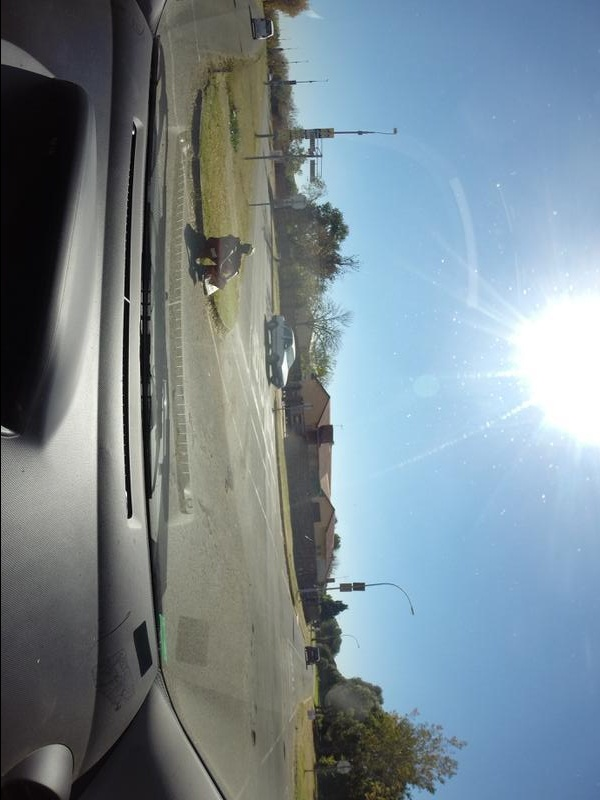pothole: (241, 727, 260, 748), (281, 737, 291, 764)
